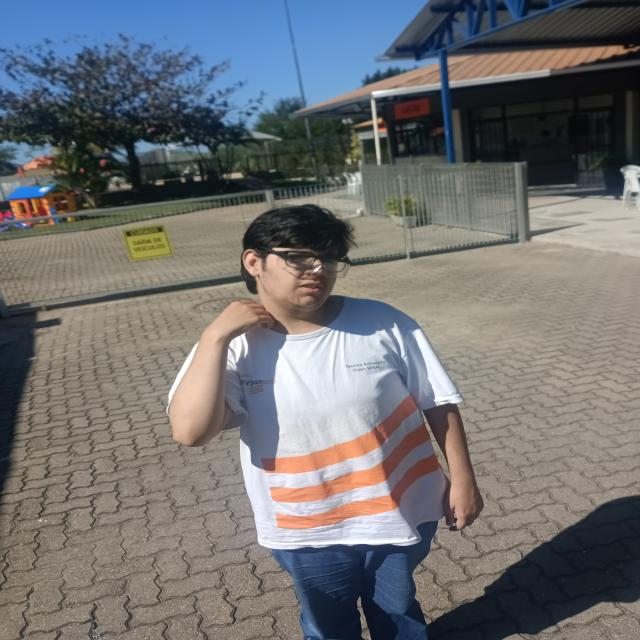oculos-epi: (248, 240, 360, 288)
